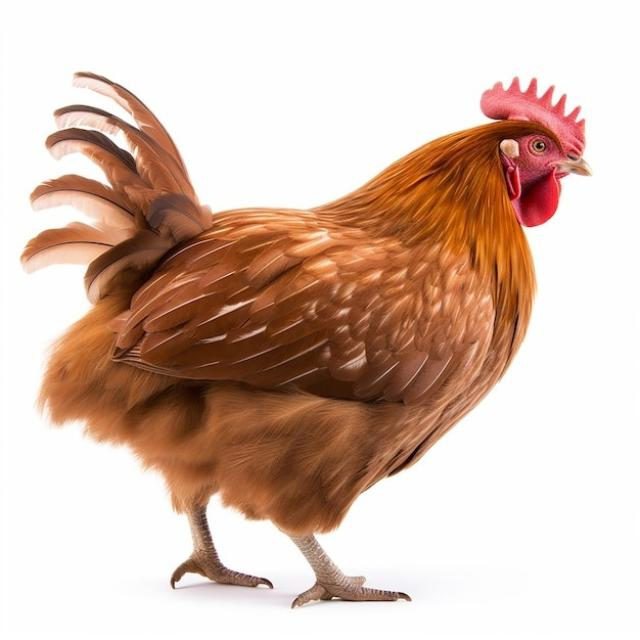Chicken: (21, 69, 592, 606)
